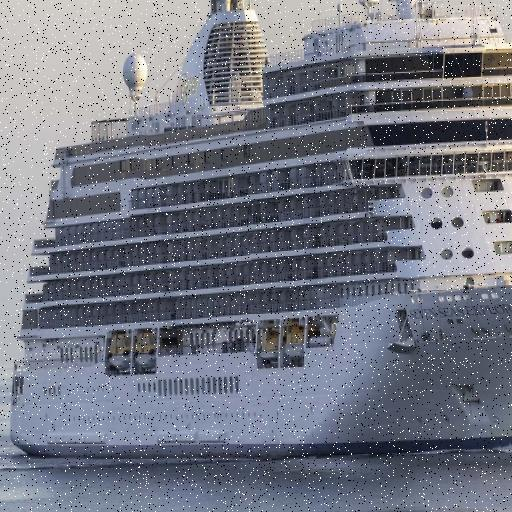cruises: (2, 1, 512, 475)
